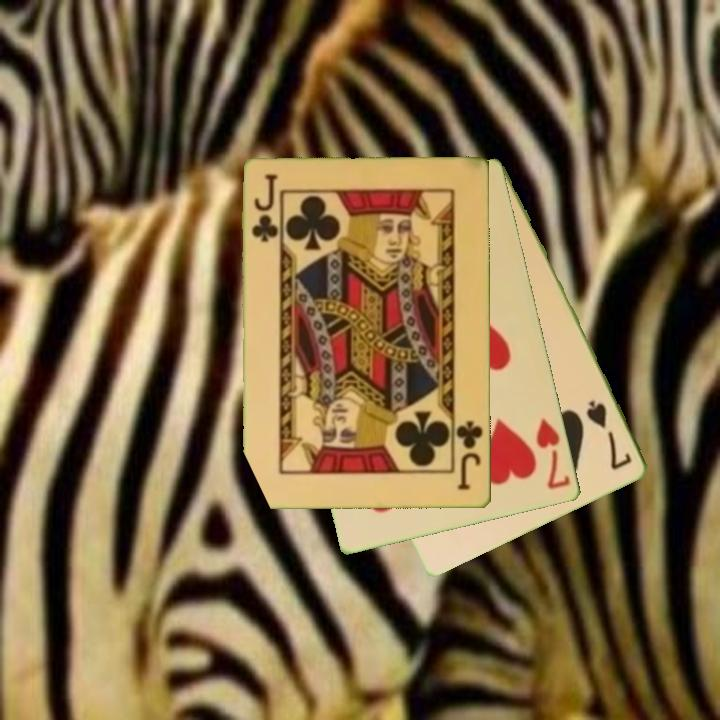7h: (533, 415, 574, 493)
7s: (583, 397, 635, 473)
Jc: (453, 418, 486, 494), (248, 171, 280, 246)
